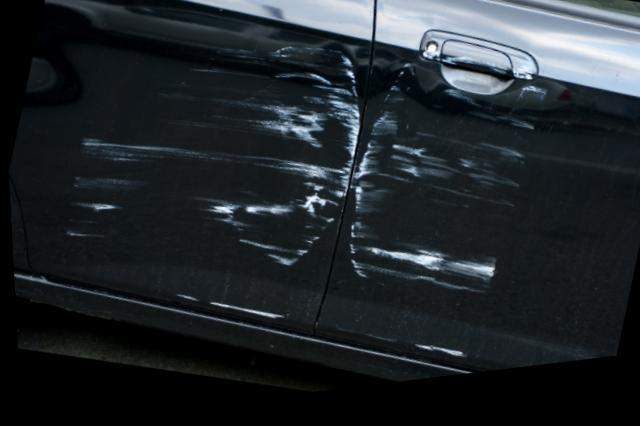scratch: (52, 45, 356, 275), (343, 71, 547, 307), (172, 296, 283, 326), (404, 351, 462, 371)
